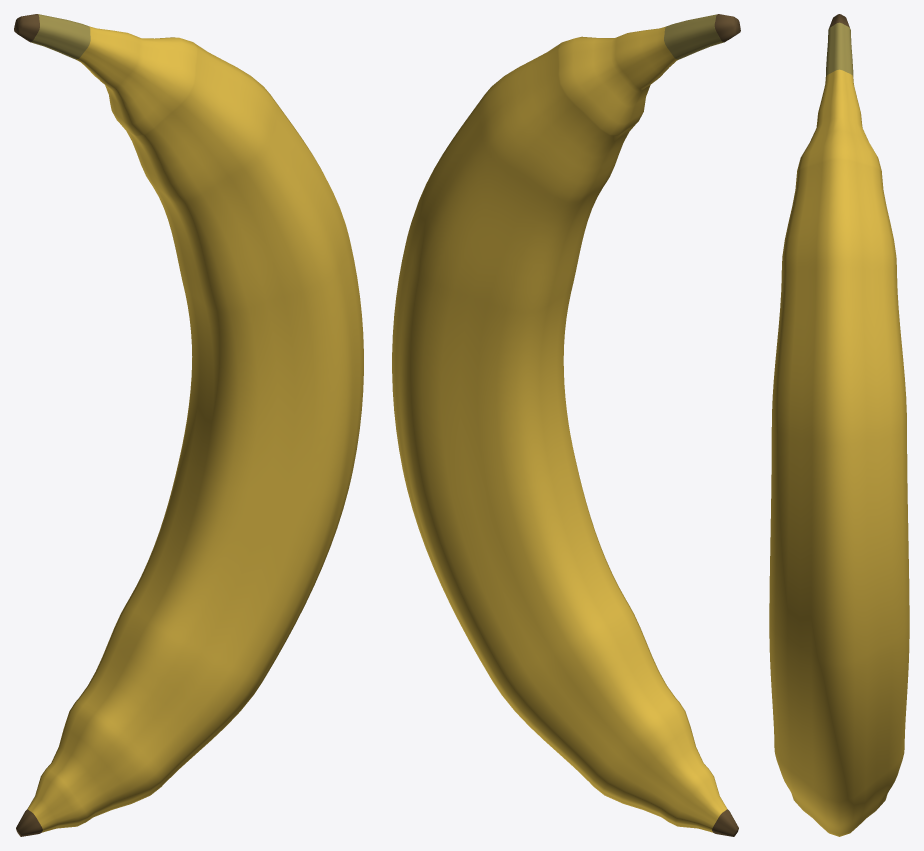
File: A-NEW-20261027-BANANA-001_LOD1_R1.glb
3 views of the same model, side by side, from view 1: azimuth 30°, elevation 25°; view 2: azimuth 150°, elevation 25°; view 3: azimuth 270°, elevation 25° (orthographic). The views are drawn at different scales.
Parts seen in each view (by area): view 1: continuous original banana peel body and ends; view 2: continuous original banana peel body and ends; view 3: continuous original banana peel body and ends.
Part boxes in pixels (x1,y1,x2,y2): continuous original banana peel body and ends: (14, 14, 363, 836); continuous original banana peel body and ends: (392, 14, 740, 836); continuous original banana peel body and ends: (769, 14, 909, 836).
Bounding box in the file's own units: 0.1241 × 0.2834 × 0.0462.
